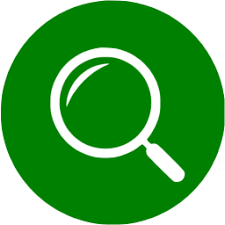searchIcon: (49, 46, 185, 181)
